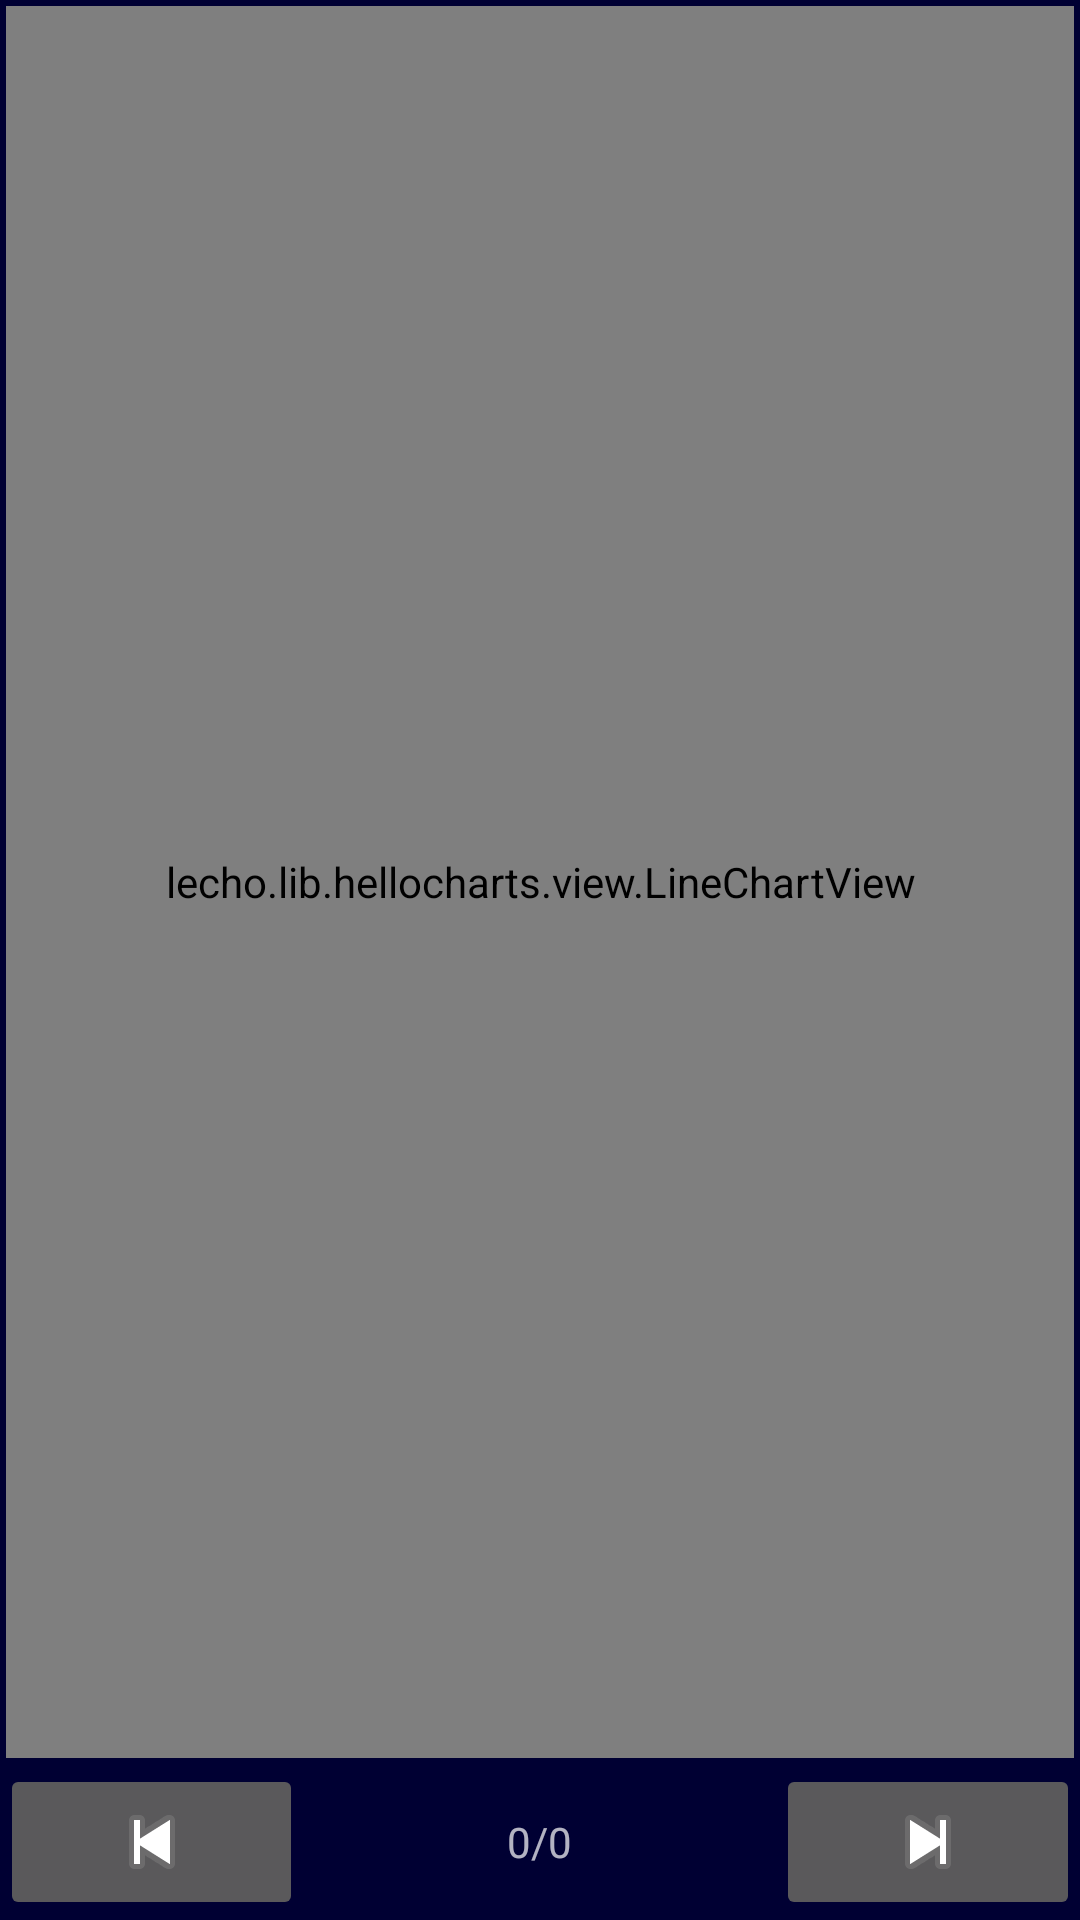

Screen size 1080w x 1920h. Icon name, then its center in pixels as (x=x, y=y):
next: (x=928, y=1842)
previous: (x=151, y=1842)
